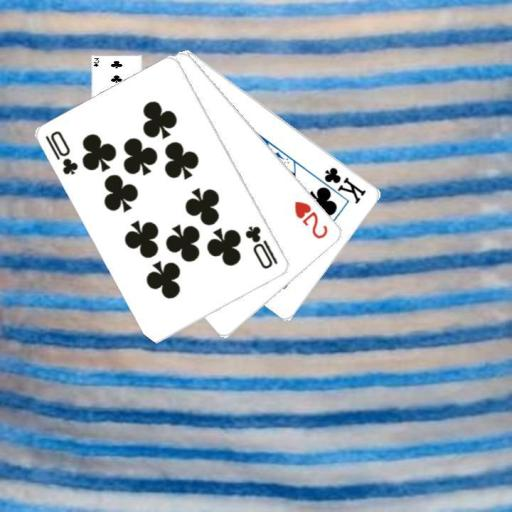10C: (43, 128, 80, 177), (243, 223, 280, 271)
2H: (292, 198, 330, 241)
KC: (313, 164, 369, 206)
